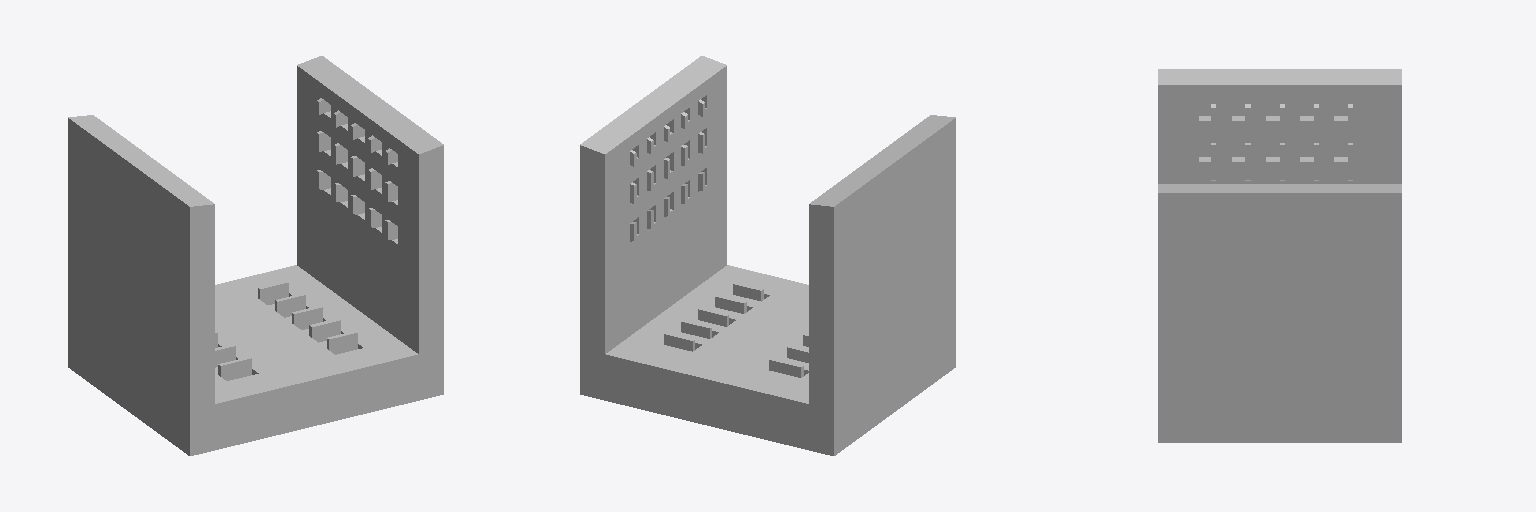
The model's file is courtyard-simple.obj.
3 views of the same model, side by side, from view 1: azimuth 30°, elevation 25°; view 2: azimuth 150°, elevation 25°; view 3: azimuth 270°, elevation 25° (orthographic).
Parts seen in each view (by area): view 1: Cube_Cube.004; view 2: Cube_Cube.004; view 3: Cube_Cube.004.
Part boxes in pixels (x1,y1,x2,y2): Cube_Cube.004: (68,56,443,455); Cube_Cube.004: (580,56,955,455); Cube_Cube.004: (1158,69,1401,442).
Size of the model in its own units: 25.37 by 23.81 by 21.12.